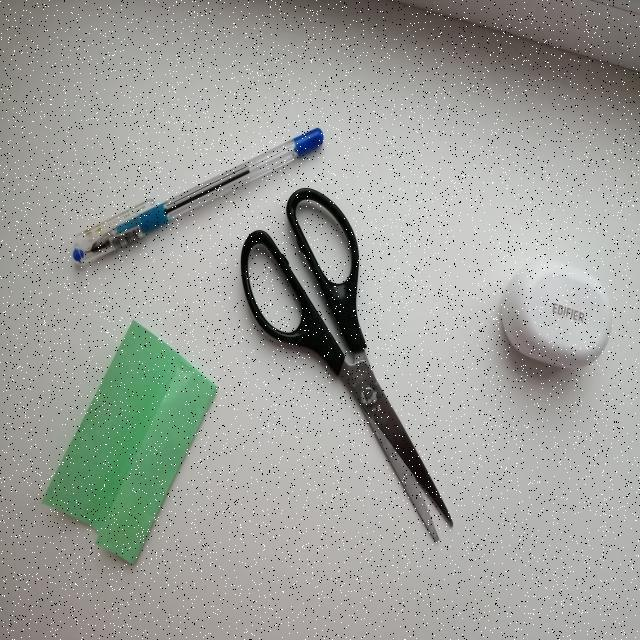scissors: (217, 157, 476, 595)
